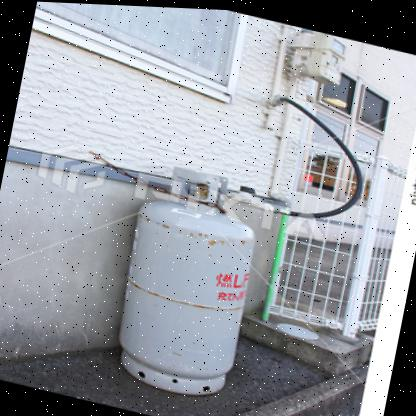gas-tank: (67, 139, 326, 415)
